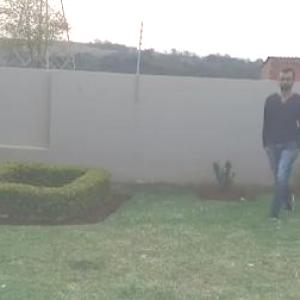follow: (249, 72, 299, 202)
